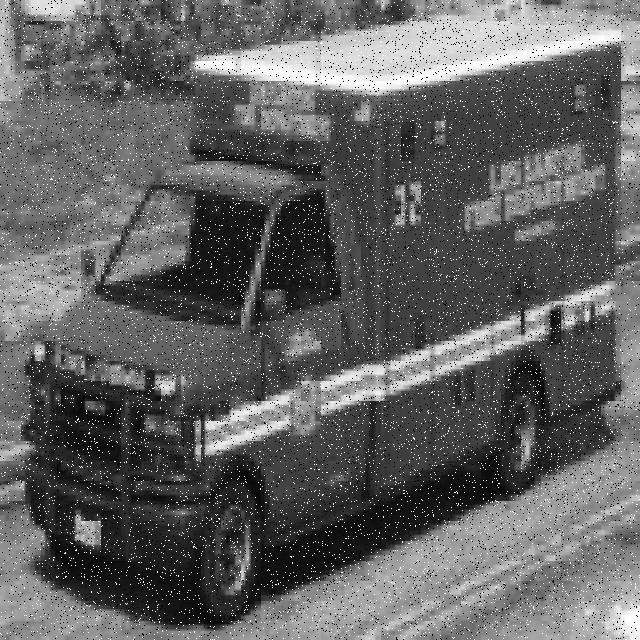Ambulance: (19, 15, 623, 631)
